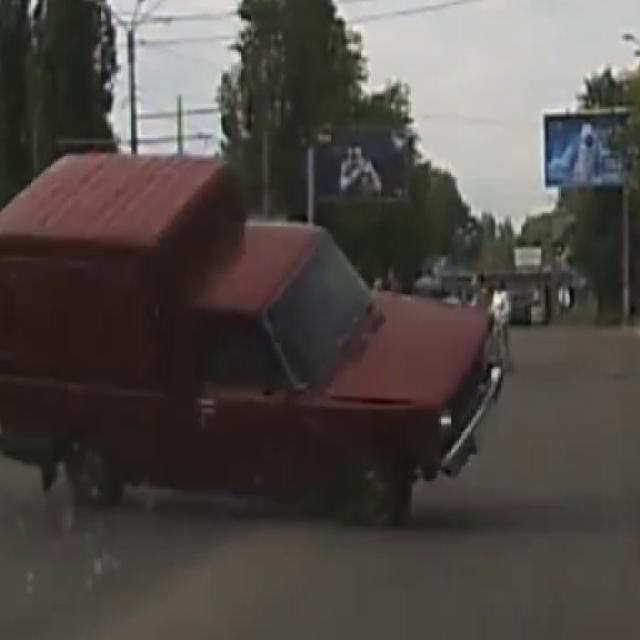accident: (7, 132, 506, 559)
